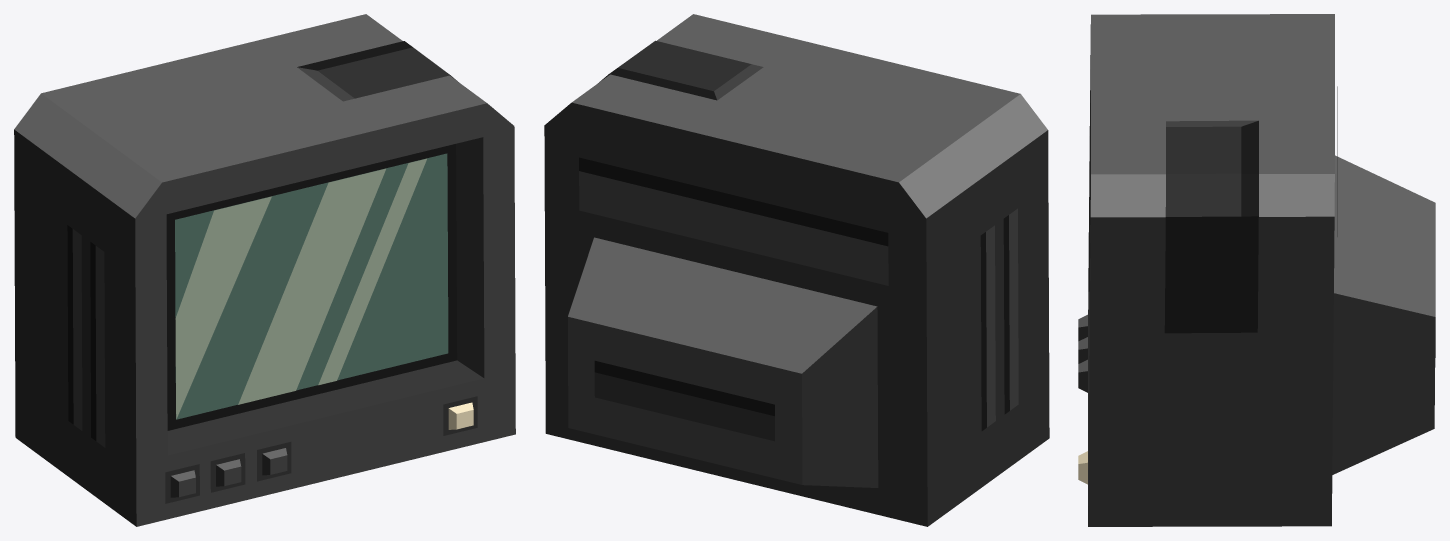
Rendered from CR_Monitor_Small_1.fbx.
The picture shows the model from 3 angles, left to right: view 1: azimuth 30°, elevation 25°; view 2: azimuth 150°, elevation 25°; view 3: azimuth 270°, elevation 25°; orthographic projection.
Visible parts, largest first — view 1: CR_Monitor_Small_1; view 2: CR_Monitor_Small_1; view 3: CR_Monitor_Small_1.
Boxes of the visible parts, x1=… form: CR_Monitor_Small_1: x1=14, y1=14, x2=515, y2=526; CR_Monitor_Small_1: x1=544, y1=14, x2=1049, y2=526; CR_Monitor_Small_1: x1=1078, y1=14, x2=1435, y2=526.
Size of the model in its own units: 0.4196 by 0.3563 by 0.3389.
